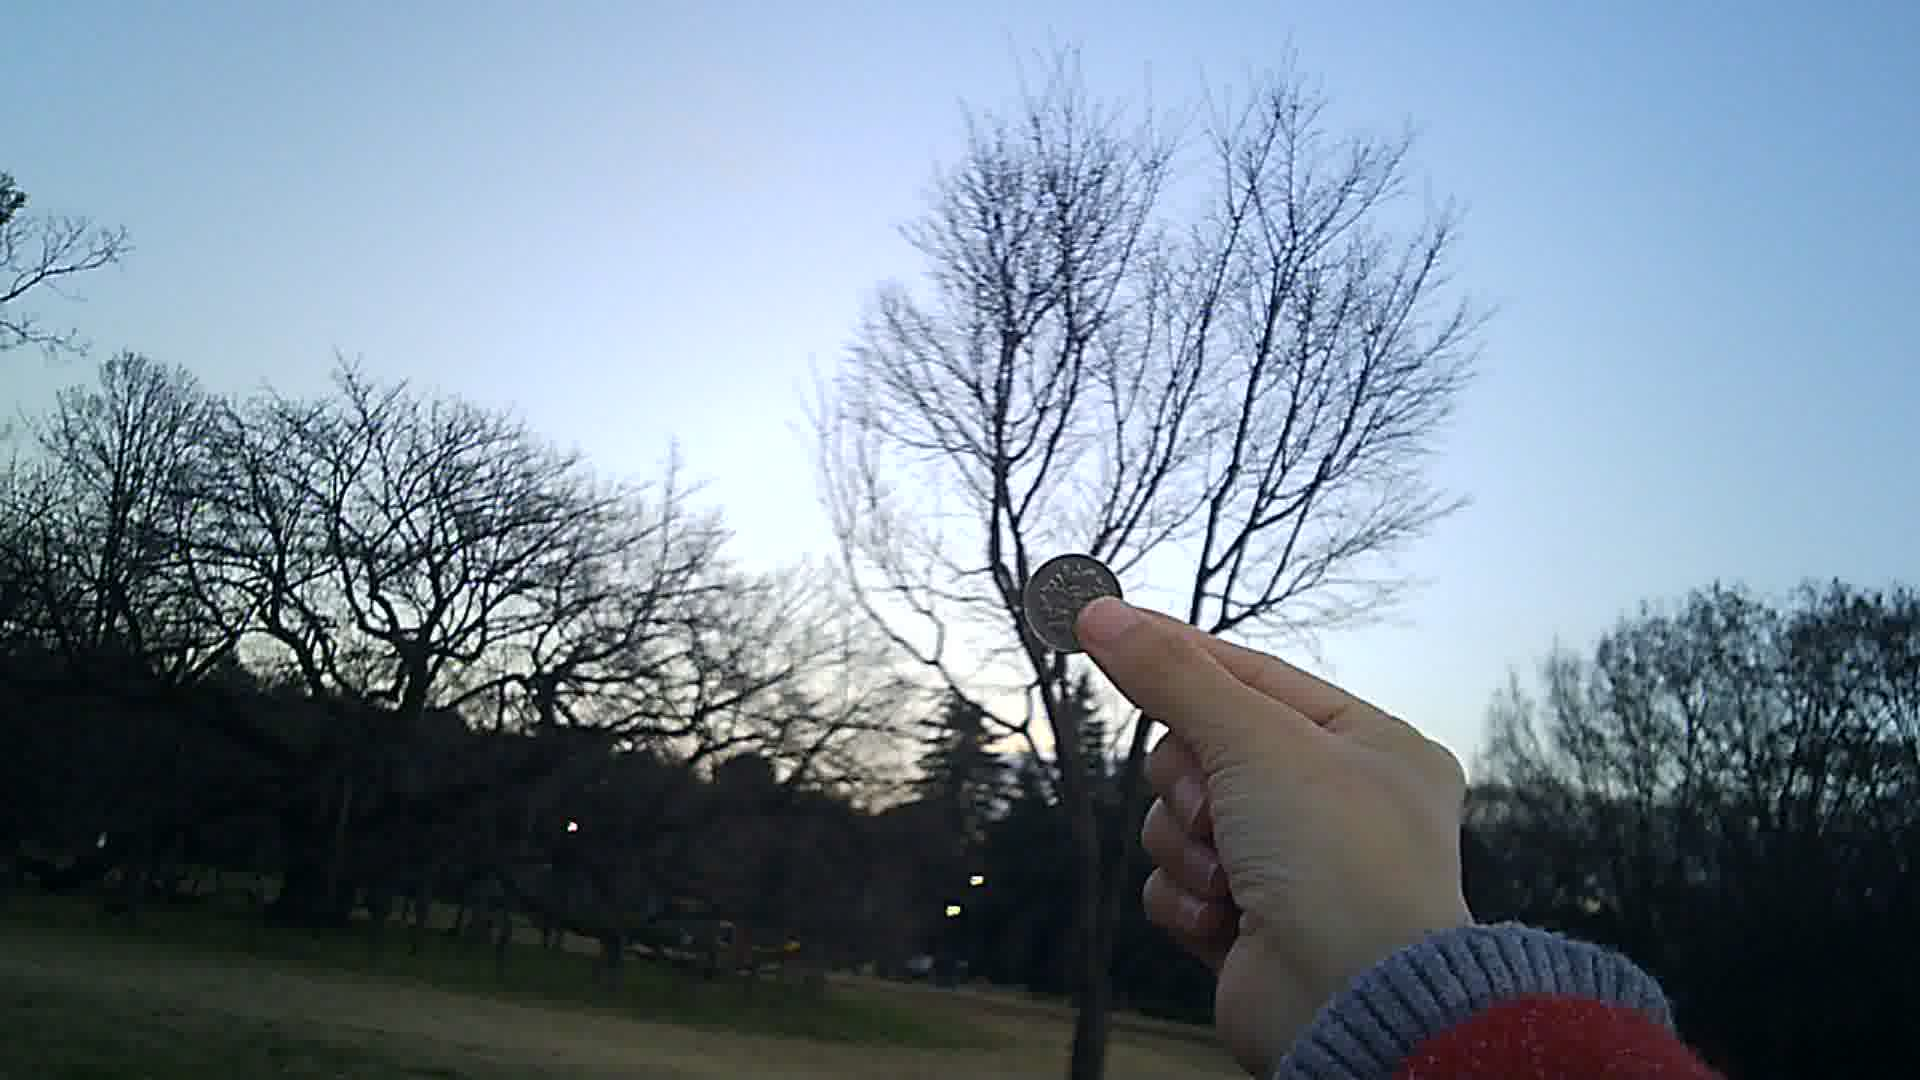100 Yen: (1023, 545, 1129, 659)
